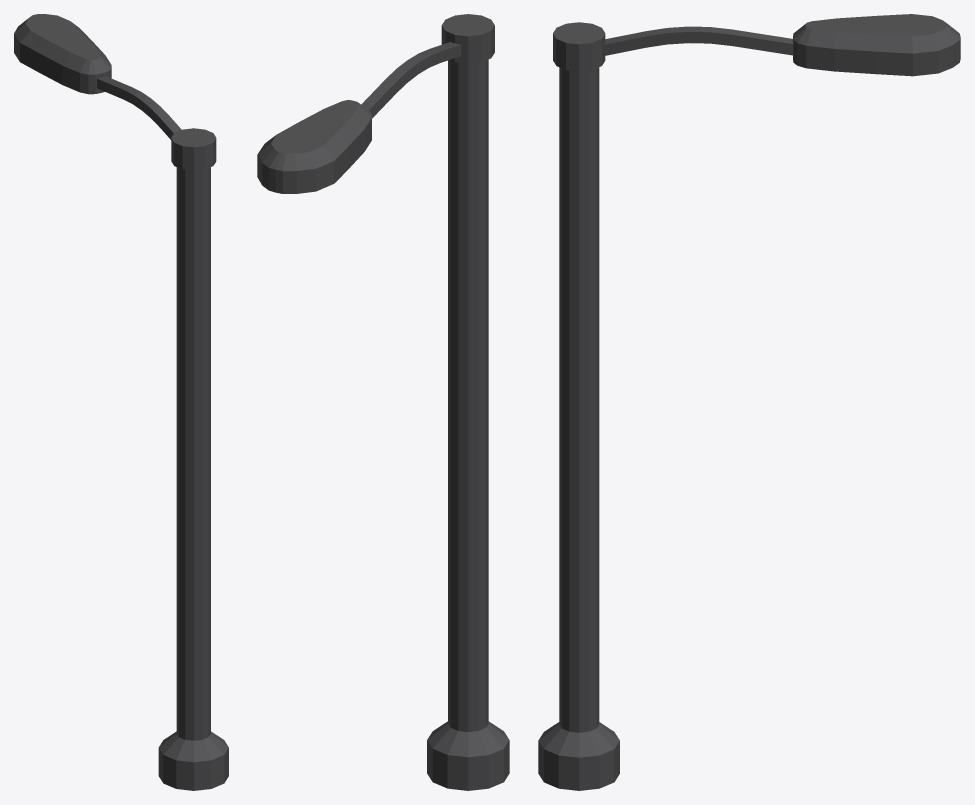
The model's file is SM_Street_Light_1.fbx.
The picture shows the model from 3 angles, left to right: view 1: azimuth 30°, elevation 25°; view 2: azimuth 150°, elevation 25°; view 3: azimuth 270°, elevation 25°; orthographic projection. The views are drawn at different scales.
Visible parts, largest first — view 1: SM_Street_Light_1_LOD0; view 2: SM_Street_Light_1_LOD0; view 3: SM_Street_Light_1_LOD0.
Part boxes in pixels (x1,y1,x2,y2): SM_Street_Light_1_LOD0: [14, 14, 228, 790]; SM_Street_Light_1_LOD0: [257, 14, 509, 790]; SM_Street_Light_1_LOD0: [538, 14, 960, 790].
Bounding box in the file's own units: 81.41 × 422 × 825.
Materials: 1 (1 with a texture image).
